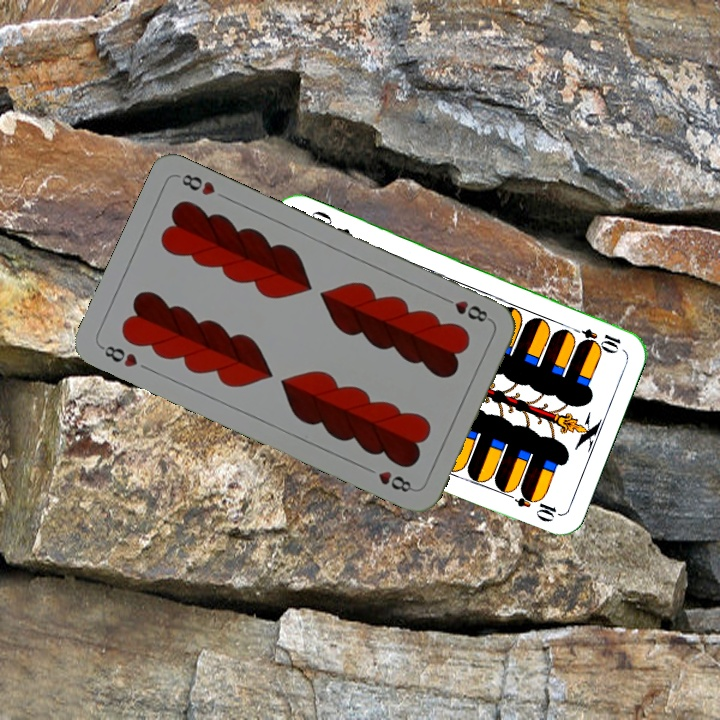E10: (566, 322, 624, 354)
H8: (438, 293, 494, 325), (96, 341, 140, 370)
